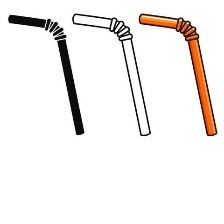drinking_straw: (66, 9, 153, 139), (135, 9, 221, 139), (4, 10, 88, 138)
